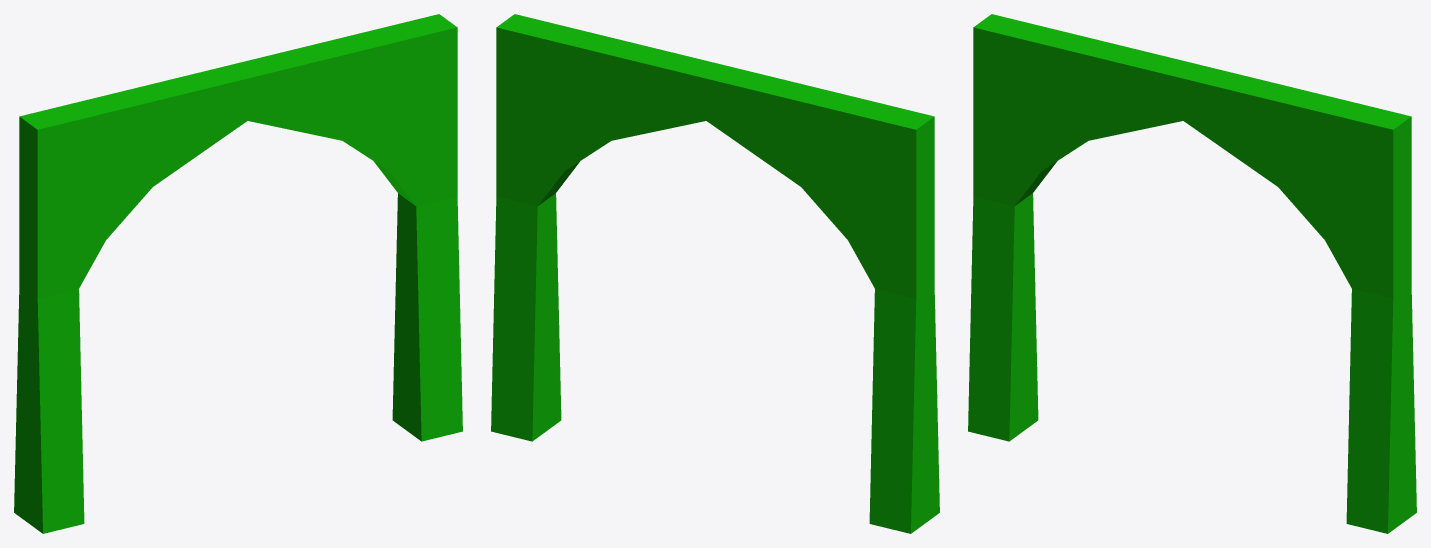
File: DG_ArchSimpleB_6m_col.FBX
3 views of the same model, side by side, from view 1: azimuth 30°, elevation 25°; view 2: azimuth 150°, elevation 25°; view 3: azimuth 330°, elevation 25° (orthographic).
Parts seen in each view (by area): view 1: DG_ArchSimpleB_6m_col; view 2: DG_ArchSimpleB_6m_col; view 3: DG_ArchSimpleB_6m_col.
Boxes of the visible parts, left/top/right/bottom form: DG_ArchSimpleB_6m_col: left=14, top=14, right=462, bottom=533; DG_ArchSimpleB_6m_col: left=491, top=14, right=939, bottom=533; DG_ArchSimpleB_6m_col: left=968, top=14, right=1416, bottom=533.
Bounding box in the file's own units: 667 × 608 × 80.
